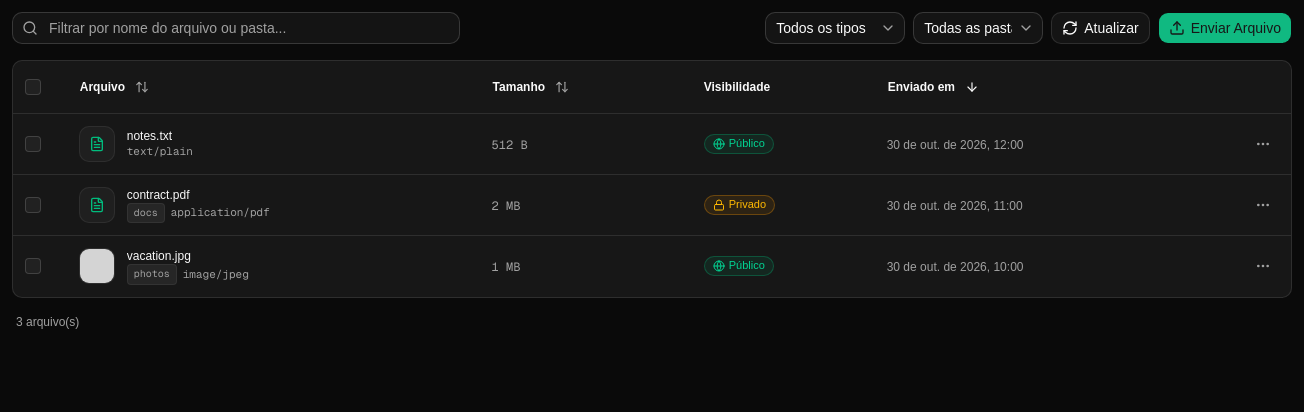
Test: Frontend FilesDataTable Component Suite › handles row selection and displays batch delete action bar
The width and height of the screenshot is (1304, 412).
Click the checkbox named "selecionar todos os arquivos" at (33, 87), box [25,79,41,95]
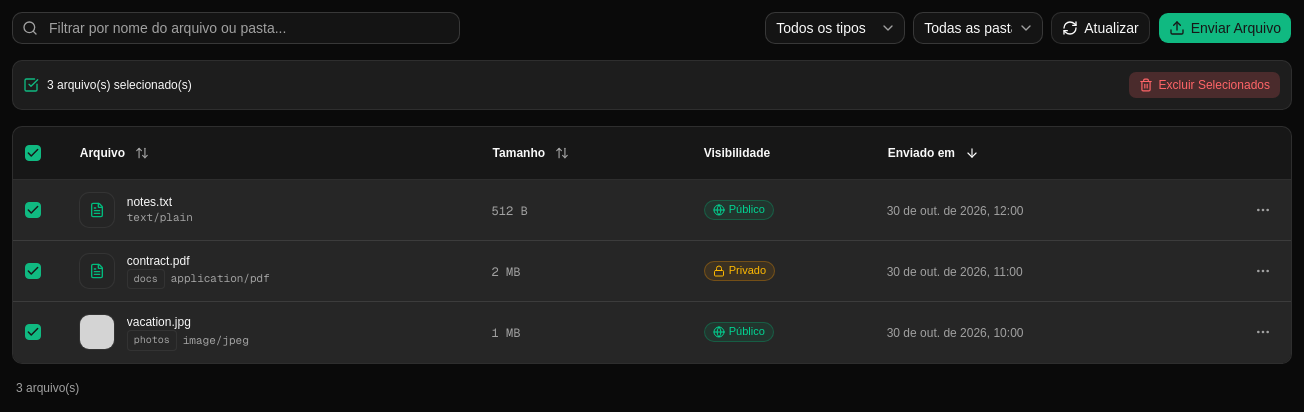
expect the text "3 arquivo(s) selecionado(s)" is shown: met, box [47,77,192,93]
expect the button "Excluir Selecionados" is shown: met, box [1128,71,1281,99]
